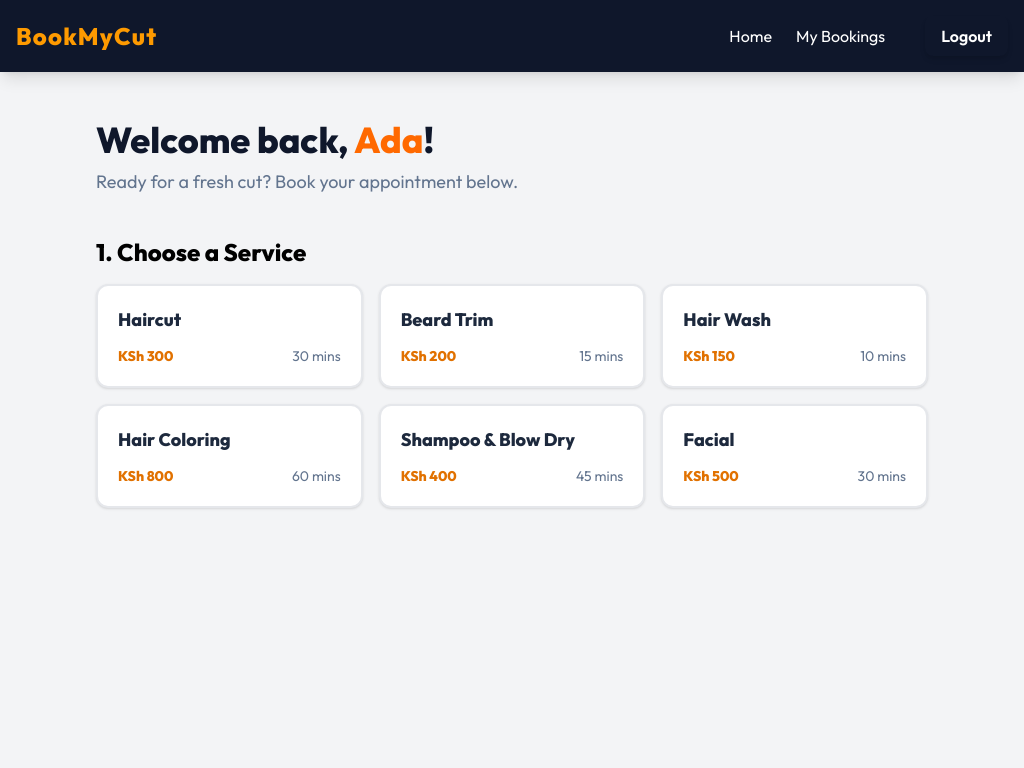
Test: Home page › shows a full-booking state if both slot sources fail
Click the heading "Haircut" at (150, 320), box [118, 308, 181, 331]
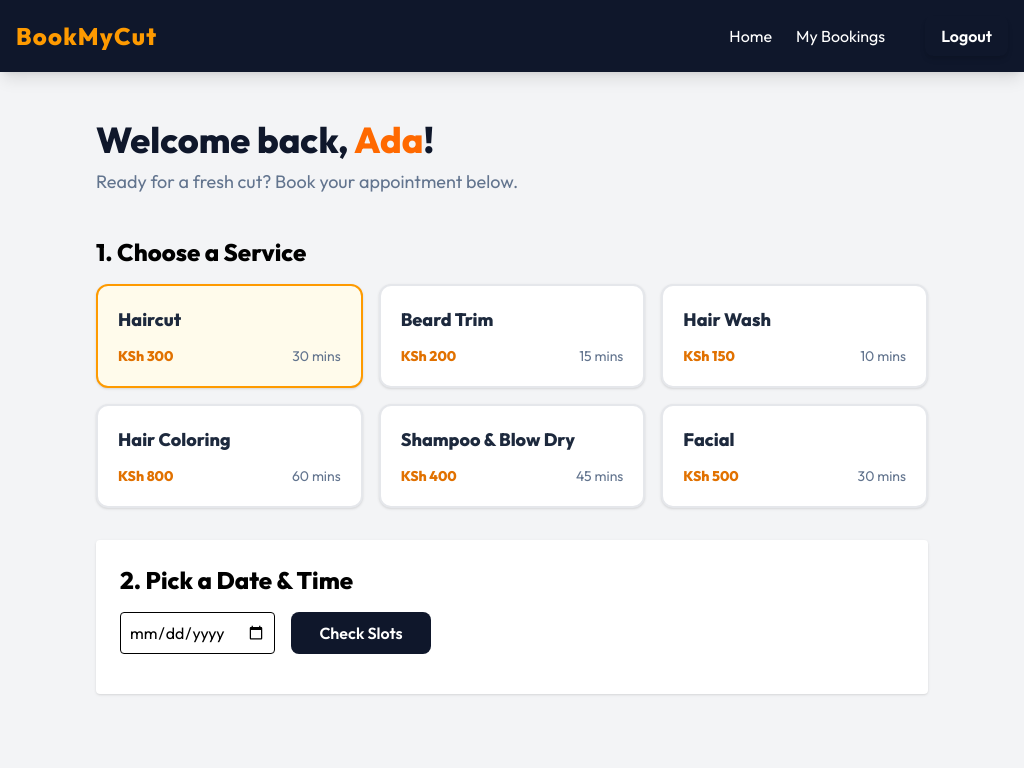
Type "2026-12-02" into the date field at (198, 633), box [120, 612, 275, 654]
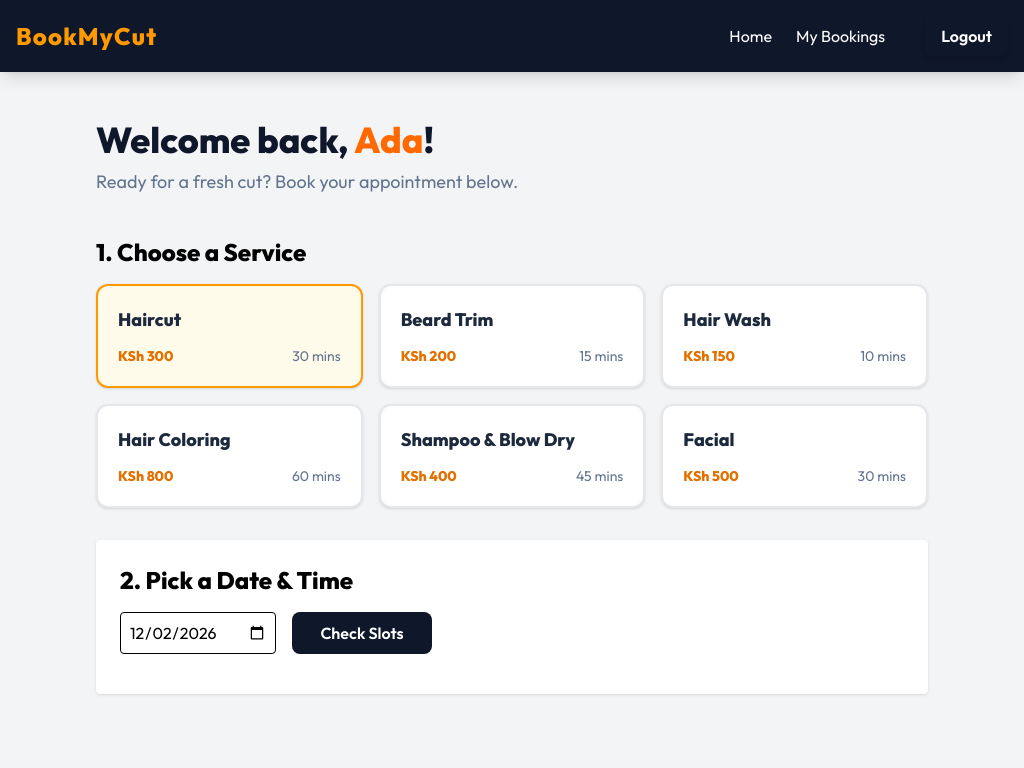
Click the button "Check Slots" at (362, 633), box [292, 612, 432, 654]
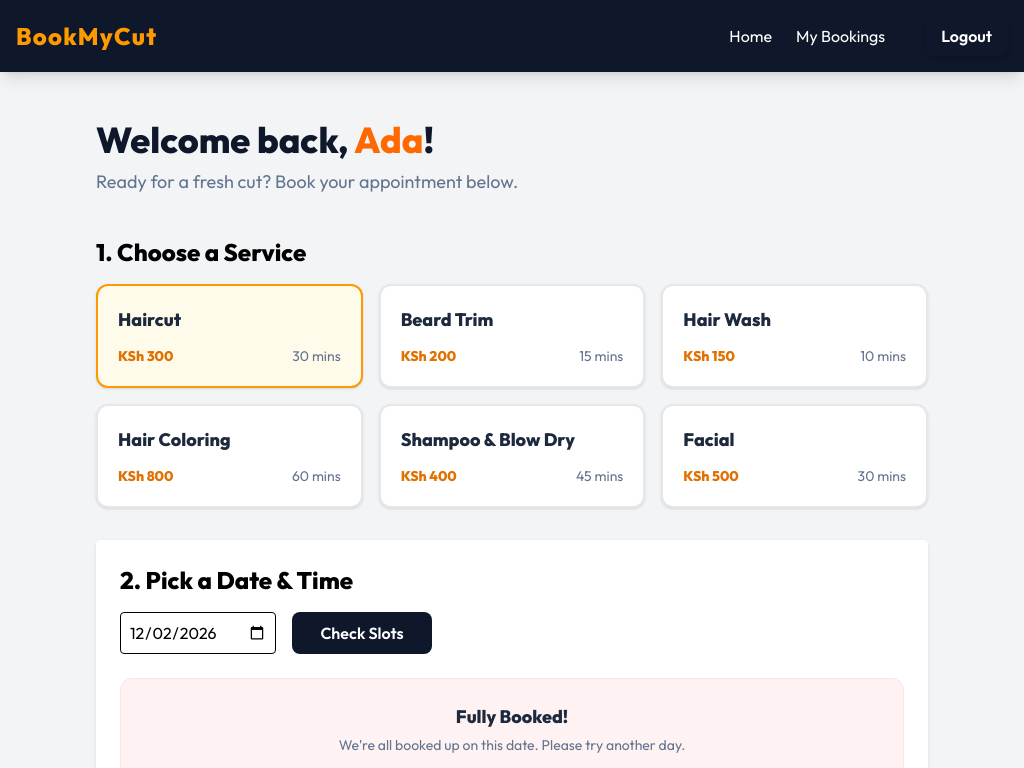
Result: the text "Fully Booked!" is shown at [456, 705, 568, 728]
